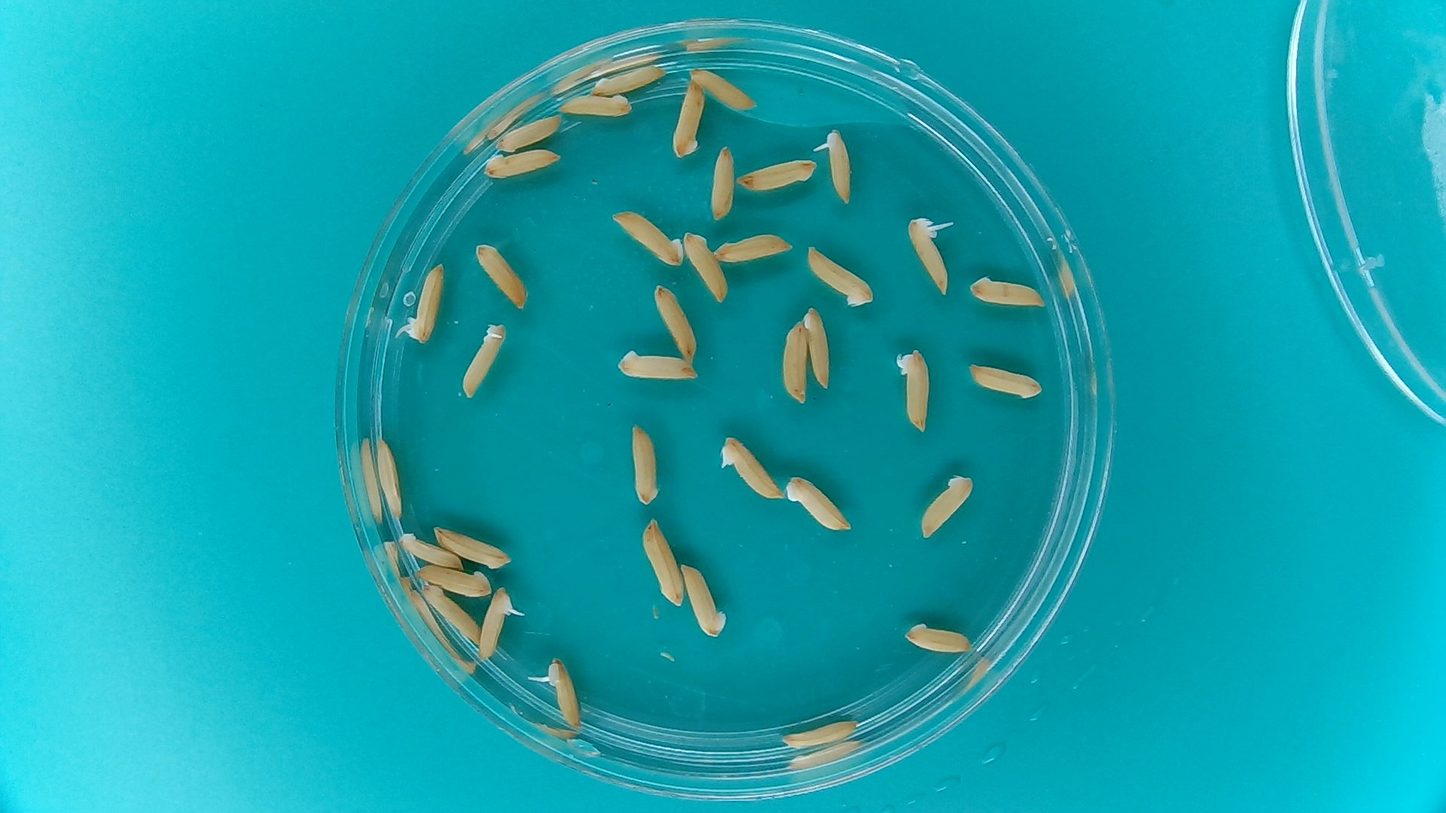no: (609, 209, 685, 268), (805, 242, 875, 306), (717, 433, 782, 501), (639, 517, 686, 608), (917, 473, 978, 542), (785, 474, 855, 534), (474, 240, 530, 312), (680, 562, 729, 641), (893, 344, 935, 436), (419, 583, 483, 643), (651, 282, 697, 364), (432, 525, 511, 570), (684, 230, 728, 306), (688, 65, 758, 112), (968, 273, 1048, 312), (627, 422, 663, 507), (966, 361, 1044, 400), (776, 717, 862, 752), (371, 432, 404, 521), (618, 347, 700, 382), (670, 81, 706, 160), (494, 113, 563, 154), (737, 158, 816, 193), (589, 62, 667, 96), (395, 531, 464, 569), (712, 232, 793, 264), (413, 565, 493, 597), (902, 620, 975, 655), (781, 319, 809, 407), (806, 306, 835, 390), (559, 93, 635, 123), (484, 150, 560, 180), (709, 145, 737, 224)
yes: (459, 321, 507, 397), (905, 219, 950, 298), (476, 586, 522, 663), (545, 658, 586, 727), (819, 123, 853, 206), (410, 268, 441, 346)
